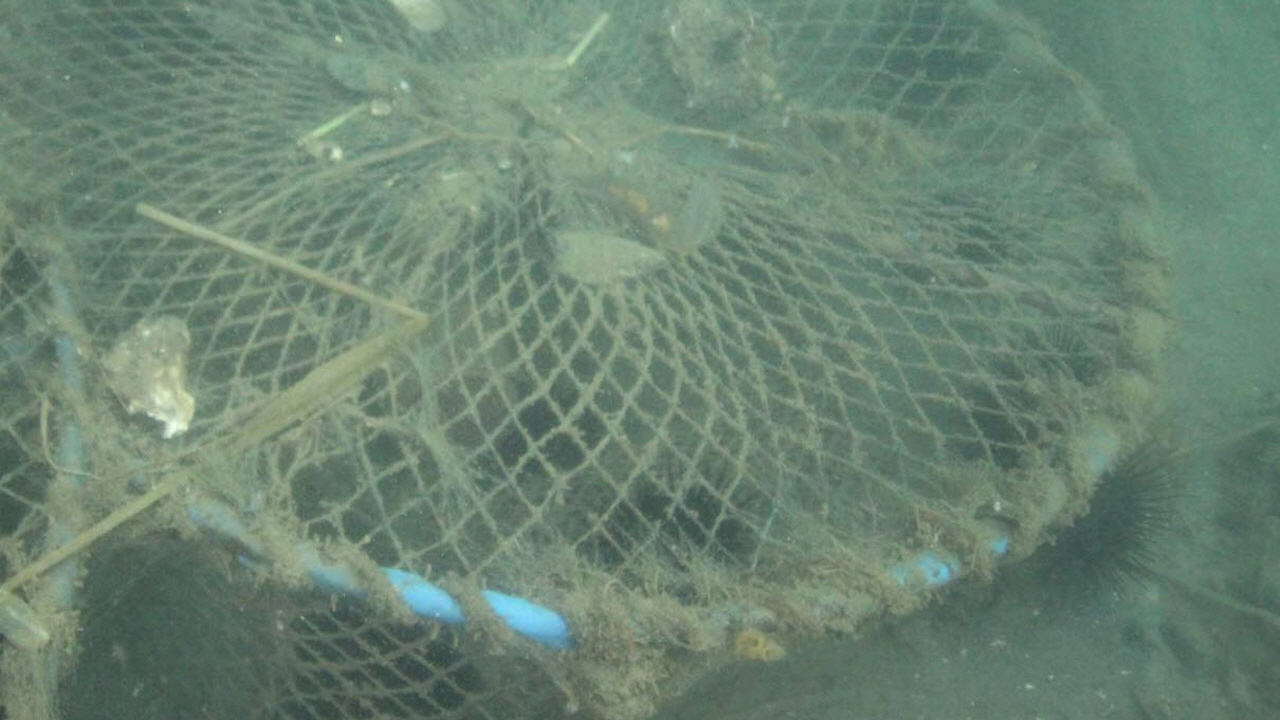circular fish trap: (0, 1, 1173, 720)
